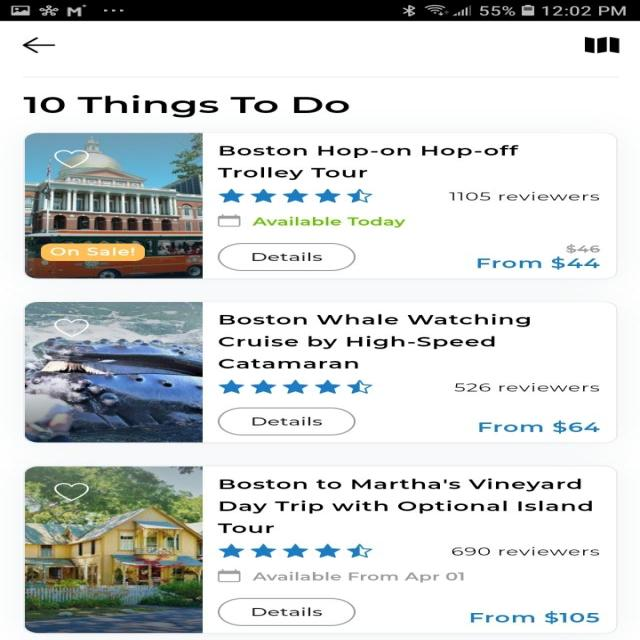Icon: (216, 543, 372, 558), (218, 379, 372, 394), (216, 188, 372, 202), (53, 482, 90, 501), (53, 149, 90, 168), (53, 318, 89, 336), (583, 36, 619, 54), (22, 37, 56, 54), (217, 568, 241, 582), (217, 213, 241, 227)
Image: (24, 466, 203, 632), (25, 133, 203, 279), (24, 302, 203, 442)
Text: (216, 478, 592, 533), (218, 314, 529, 368), (216, 144, 518, 180), (23, 95, 349, 118), (253, 571, 463, 582), (252, 216, 406, 228), (470, 610, 599, 623), (477, 256, 599, 269), (478, 420, 599, 433), (450, 546, 600, 556), (452, 382, 600, 392), (448, 192, 599, 201), (564, 244, 600, 254)
TextButton: (217, 406, 356, 436), (217, 242, 356, 271), (216, 598, 356, 626), (40, 243, 145, 261)
